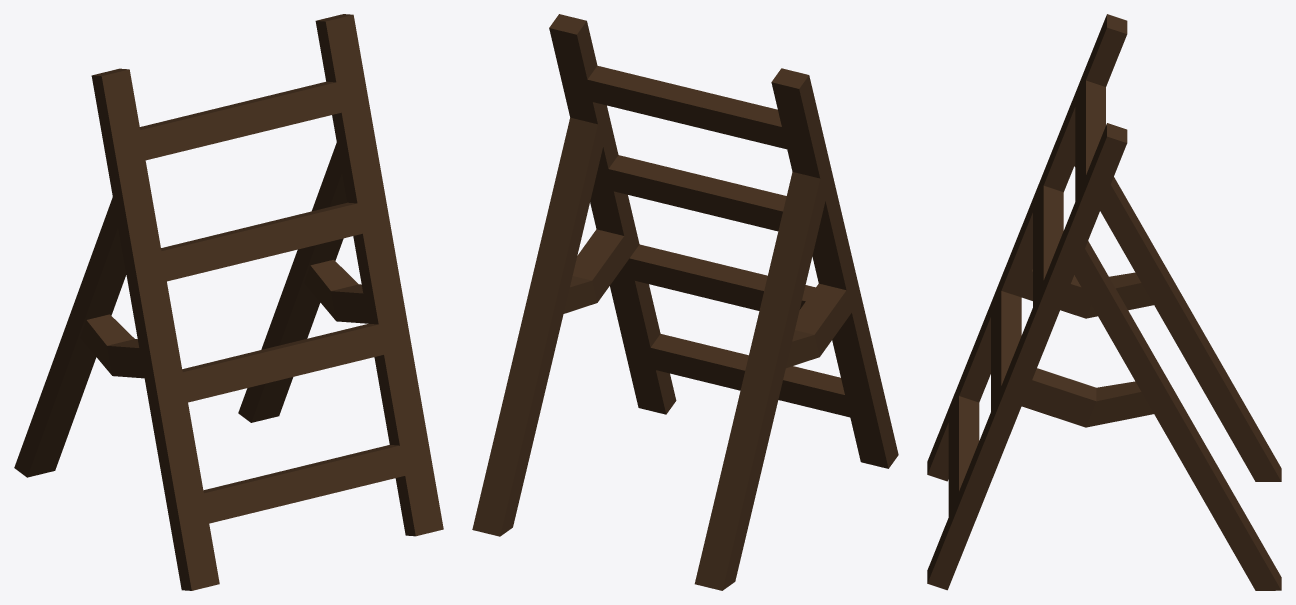
The model's file is Ladder_1_Dark_Brown.fbx.
3 renders of one model, left to right at view 1: azimuth 30°, elevation 25°; view 2: azimuth 150°, elevation 25°; view 3: azimuth 270°, elevation 25°, orthographic.
Visible parts, largest first — view 1: Ladder_1_Dark_Brown; view 2: Ladder_1_Dark_Brown; view 3: Ladder_1_Dark_Brown.
Boxes of the visible parts, x1,y1,x2,y2 form: Ladder_1_Dark_Brown: [14, 14, 443, 590]; Ladder_1_Dark_Brown: [472, 14, 898, 590]; Ladder_1_Dark_Brown: [927, 14, 1281, 590].
Bounding box in the file's own units: 135 × 233 × 165.
